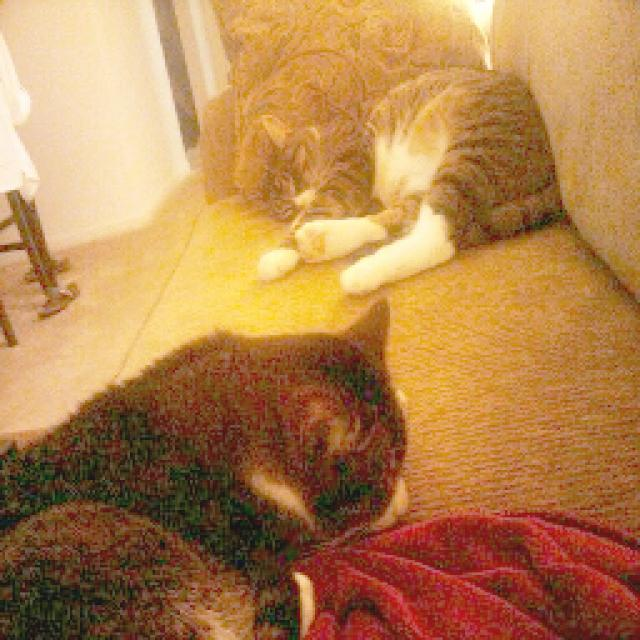cat: (0, 291, 431, 639), (229, 52, 566, 302)
